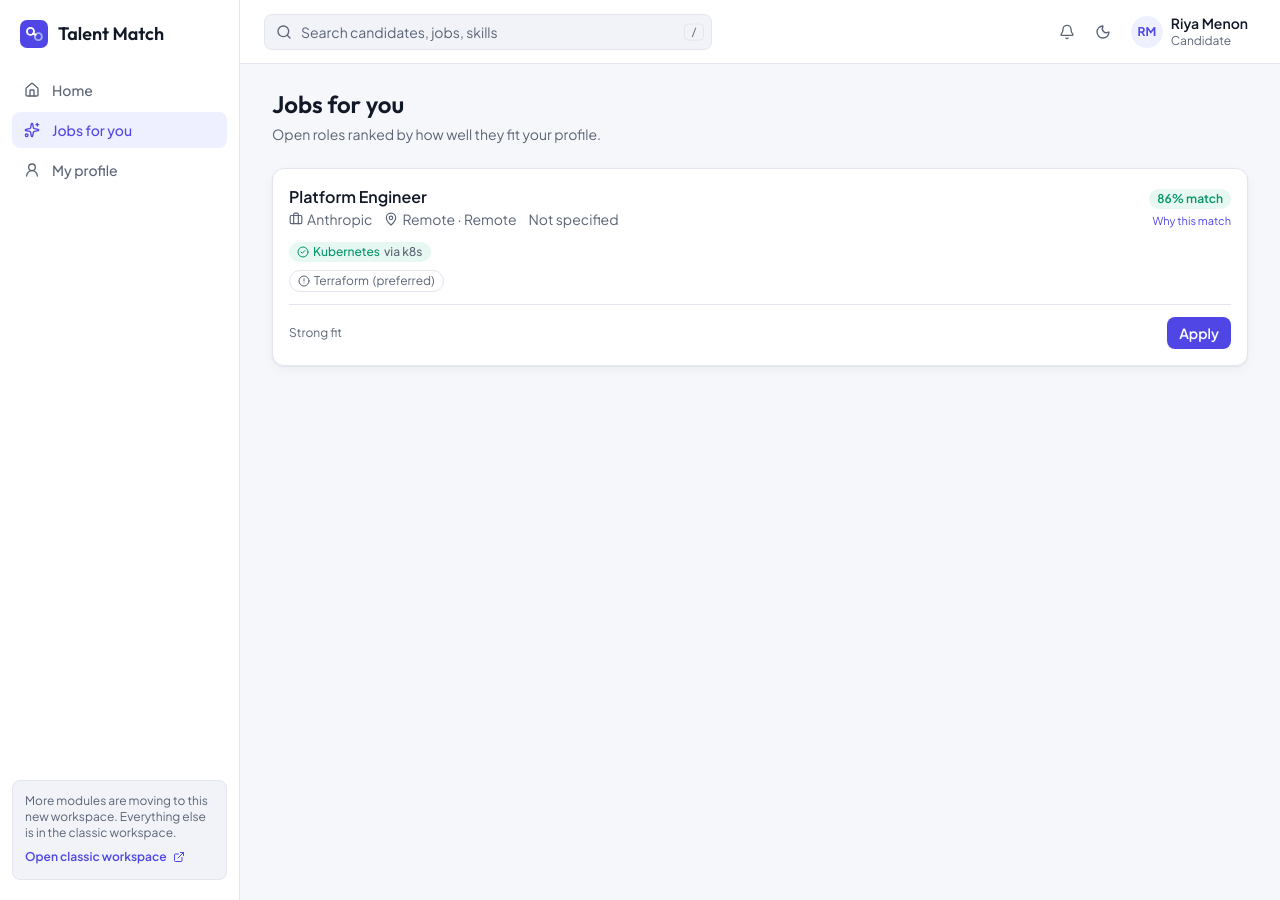
Test case: jobs for you › lets a candidate apply
This screenshot has width=1280, height=900.
Click the button "Apply" at (1199, 332), box [1167,316,1231,348]
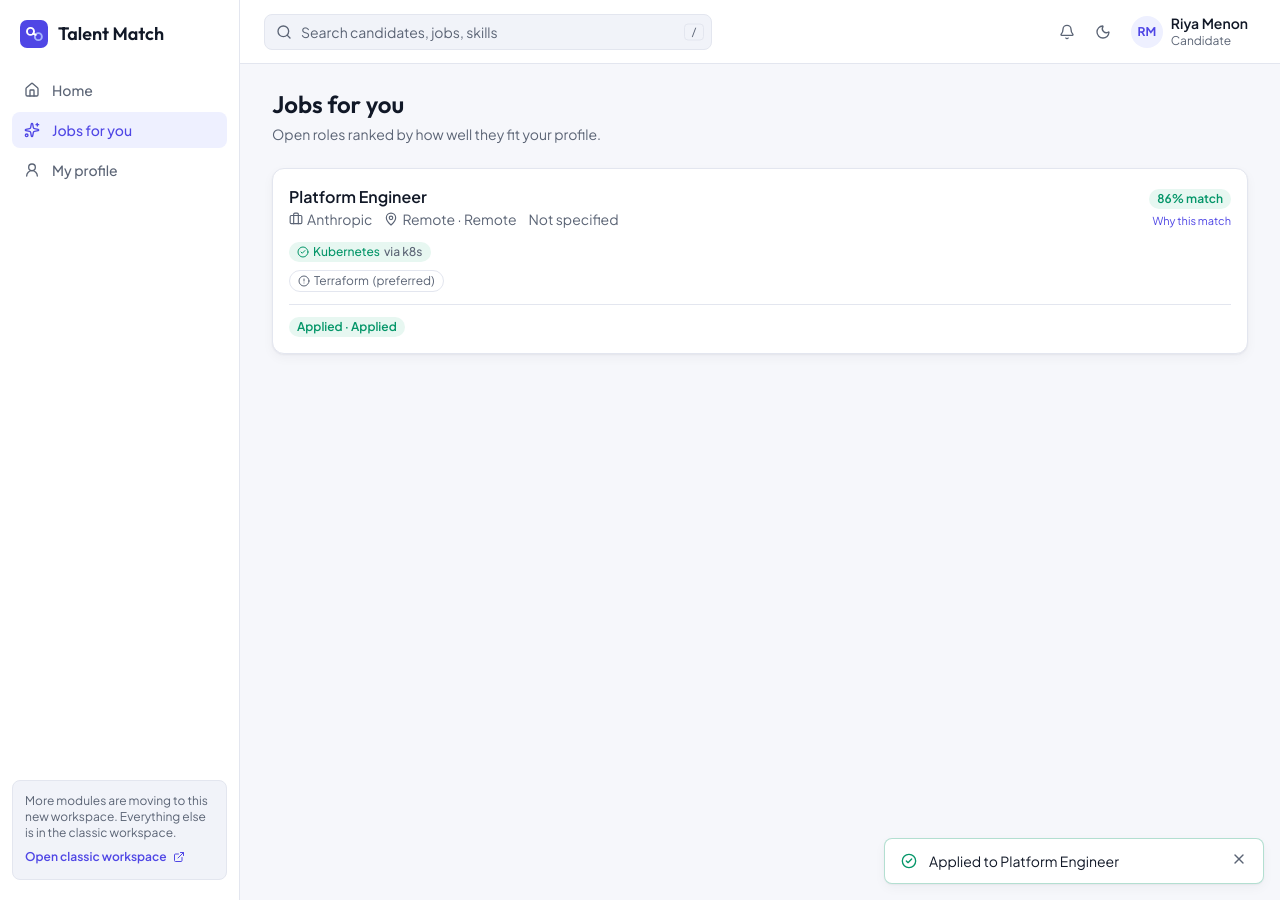
Expected: the text "Applied to Platform Engineer" is shown, [929,852,1119,870]
